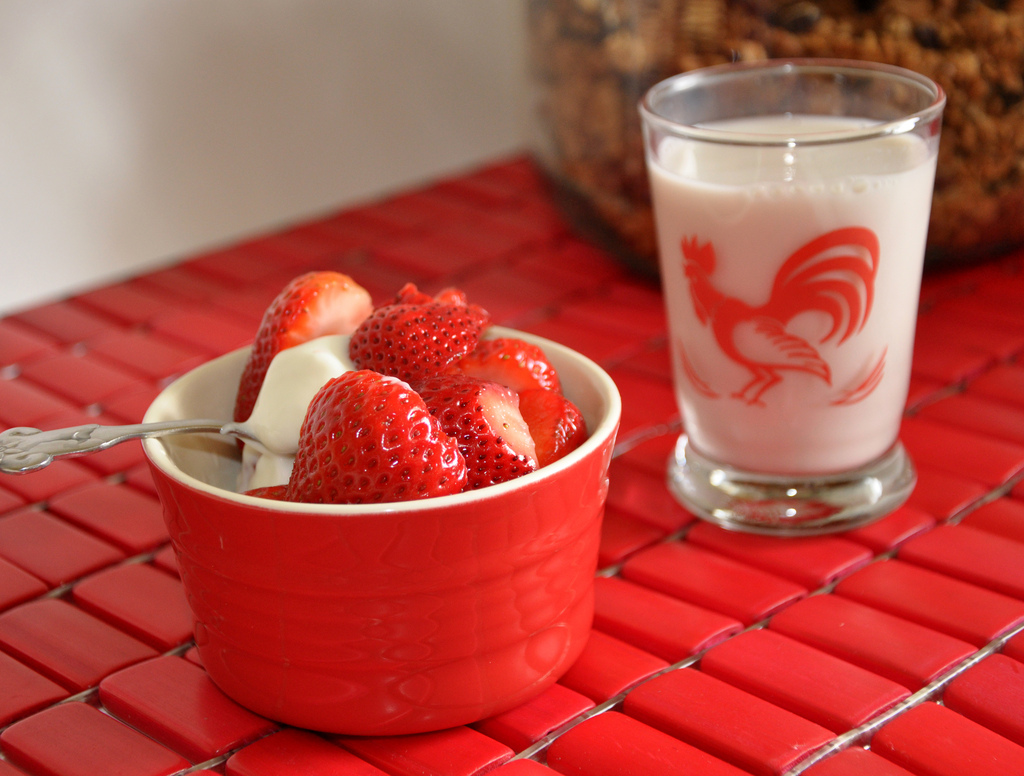glass of milk: (635, 55, 946, 541)
